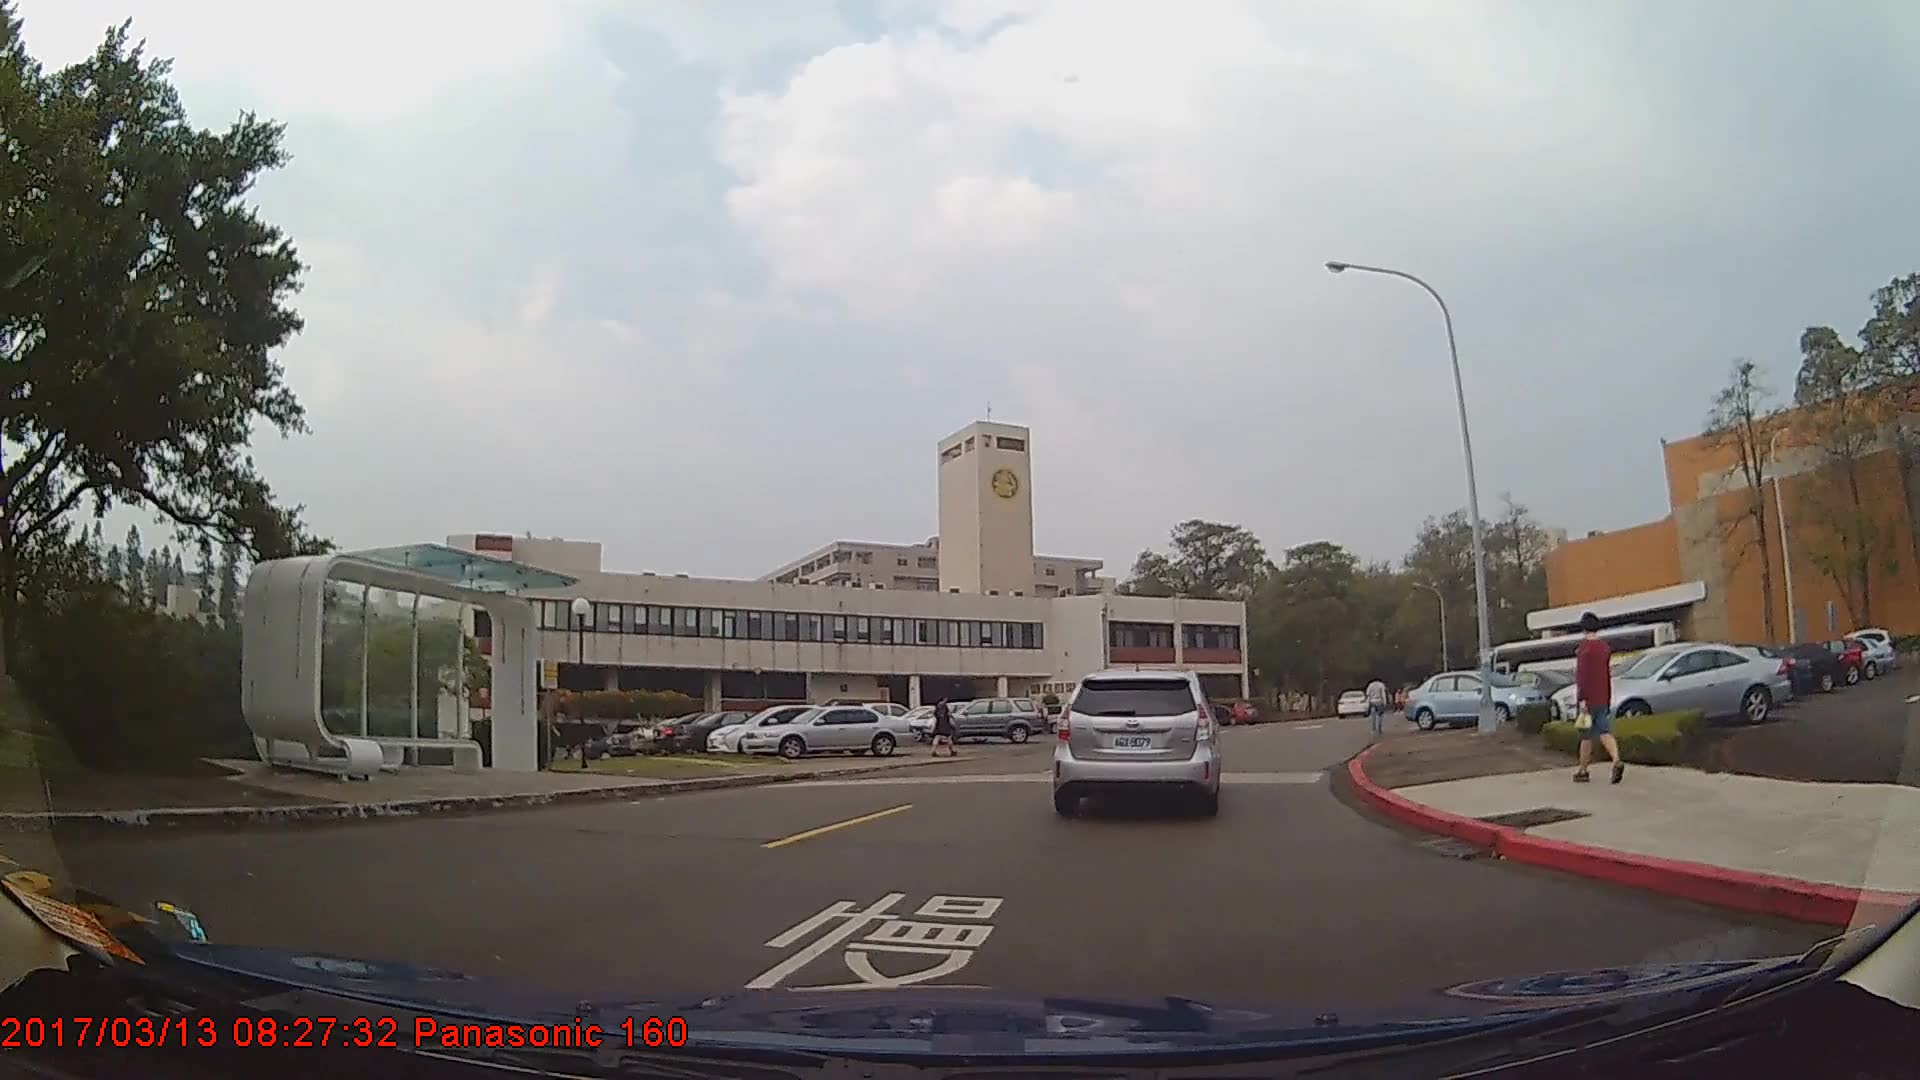pedestrian: (1569, 609, 1625, 783), (931, 693, 959, 761), (1364, 673, 1390, 735)
vehicle: (1055, 670, 1219, 816), (1568, 640, 1788, 728), (739, 703, 915, 758), (699, 699, 868, 751), (1400, 668, 1544, 728), (921, 694, 1048, 741), (1730, 640, 1842, 693), (672, 708, 787, 754), (1334, 686, 1369, 717)
